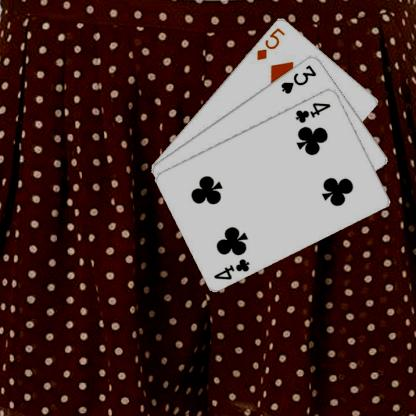3S: (278, 62, 318, 95)
4C: (293, 99, 332, 124), (211, 256, 251, 280)
5D: (254, 24, 286, 61)
